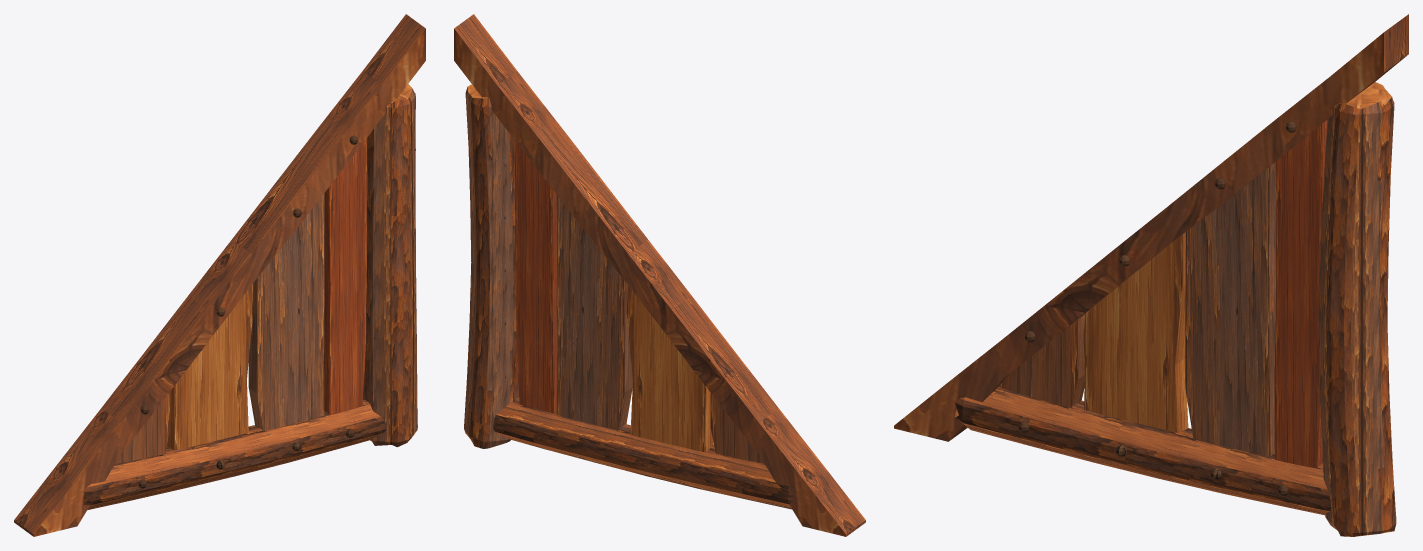
File: sloped_wall__plank_root.glb
The picture shows the model from 3 angles, left to right: view 1: azimuth 30°, elevation 25°; view 2: azimuth 150°, elevation 25°; view 3: azimuth 330°, elevation 25°; orthographic projection. The views are drawn at different scales.
Visible parts, largest first — view 1: model; view 2: model; view 3: model.
Part boxes in pixels (box(x1,y1,x2,y2)): model: box(14, 14, 425, 536); model: box(454, 14, 865, 536); model: box(894, 14, 1408, 536).
Size of the model in its own units: 1.94 by 1.95 by 0.2582.
11 materials, 11 textured.
